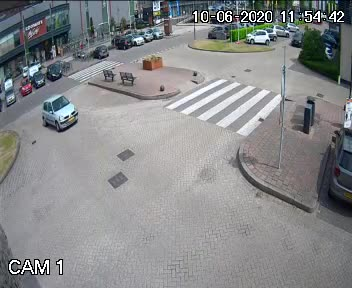car: (33, 95, 84, 133), (291, 30, 303, 49)
